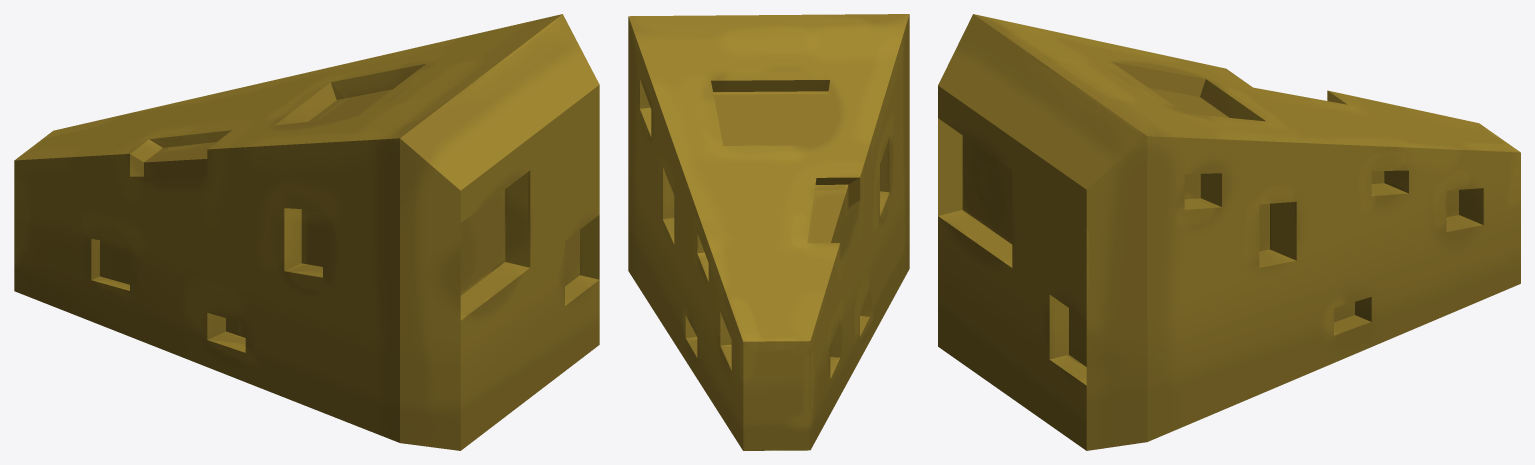
The model's file is cheese.obj.
The picture shows the model from 3 angles, left to right: view 1: azimuth 30°, elevation 25°; view 2: azimuth 150°, elevation 25°; view 3: azimuth 270°, elevation 25°; orthographic projection. The views are drawn at different scales.
Visible parts, largest first — view 1: Queijo; view 2: Queijo; view 3: Queijo.
Boxes of the visible parts, x1=… form: Queijo: x1=14, y1=14, x2=599, y2=450; Queijo: x1=628, y1=14, x2=909, y2=450; Queijo: x1=938, y1=14, x2=1520, y2=450.
Bounding box in the file's own units: 0.5039 × 0.3834 × 0.6502.
Materials: 1 (1 with a texture image).
